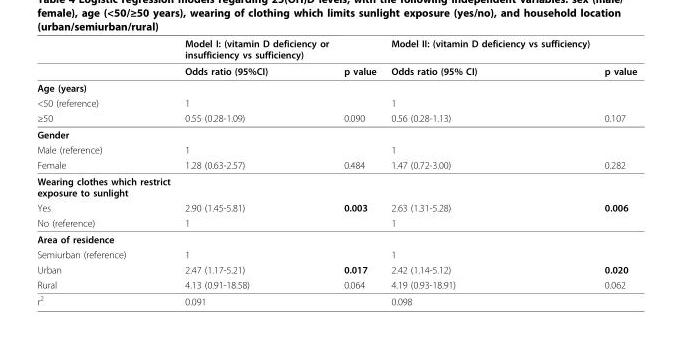table: (36, 37, 636, 306)
table column: (383, 37, 596, 306), (176, 37, 335, 306), (36, 37, 176, 306), (335, 37, 383, 306), (596, 37, 636, 306)
table column header: (36, 37, 636, 62)
table projected row header: (36, 172, 636, 199), (36, 79, 636, 95), (36, 125, 636, 141), (36, 230, 636, 246)
table row: (36, 172, 636, 199), (36, 37, 636, 62), (36, 62, 636, 79), (36, 79, 636, 95), (36, 125, 636, 141), (36, 141, 636, 157), (36, 199, 636, 215), (36, 230, 636, 246), (36, 95, 636, 110), (36, 110, 636, 125), (36, 157, 636, 172), (36, 215, 636, 230), (36, 246, 636, 261), (36, 261, 636, 276), (36, 276, 636, 291), (36, 291, 636, 306)
